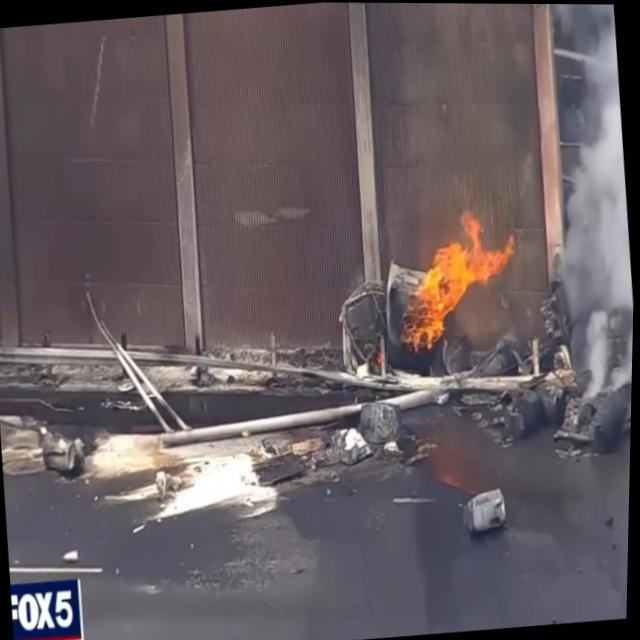Fire: (391, 202, 524, 353)
